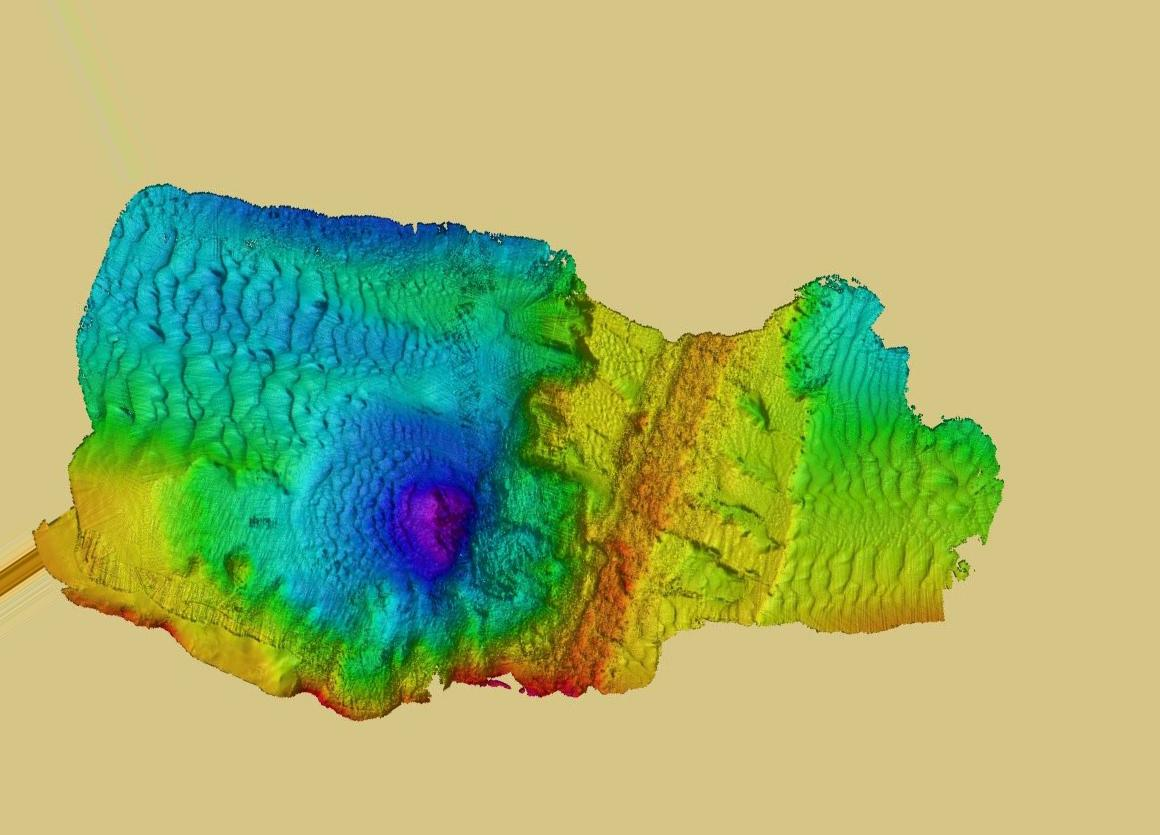Dune: (114, 246, 362, 360), (109, 363, 285, 458), (806, 540, 934, 616), (833, 428, 945, 511), (320, 474, 371, 563)
Scarp: (280, 636, 544, 717)
Scour pit: (368, 423, 486, 577)
Submerged dike: (566, 549, 658, 700), (608, 436, 691, 558), (649, 340, 739, 443)
